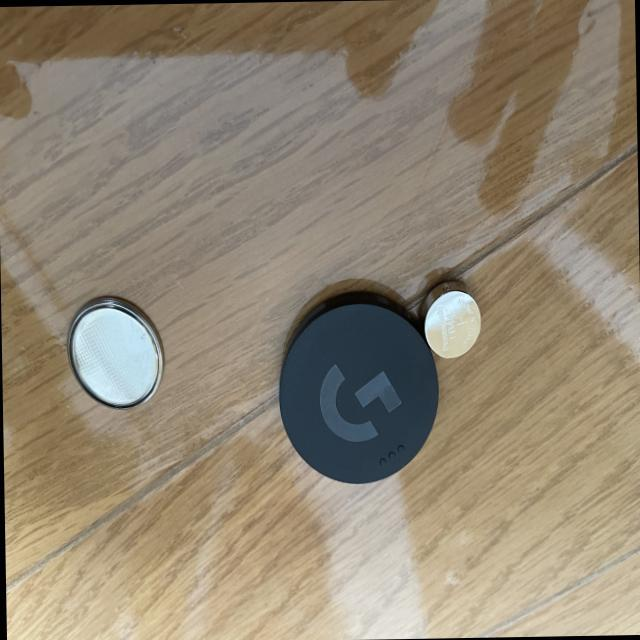COIN: (65, 293, 166, 409), (420, 278, 480, 357)
